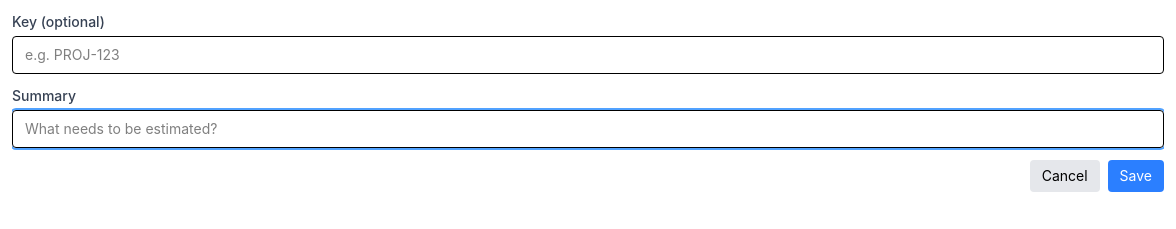
Test: ItemForm › shows error on empty summary
Click the button "Save".
click(1136, 176)  # box [1108,160,1164,192]
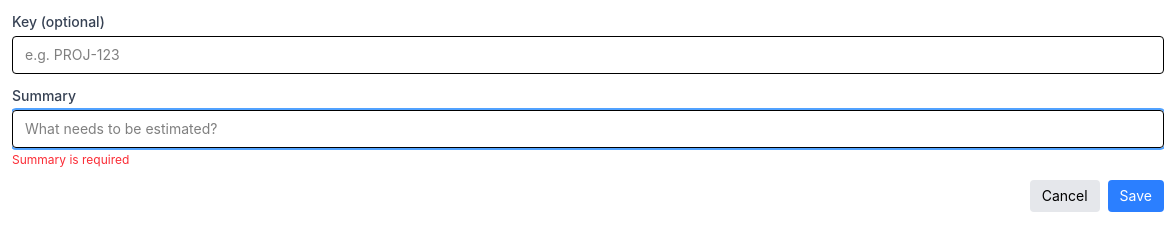
expect the text "Summary is required" is shown: met, box [12,152,129,167]
